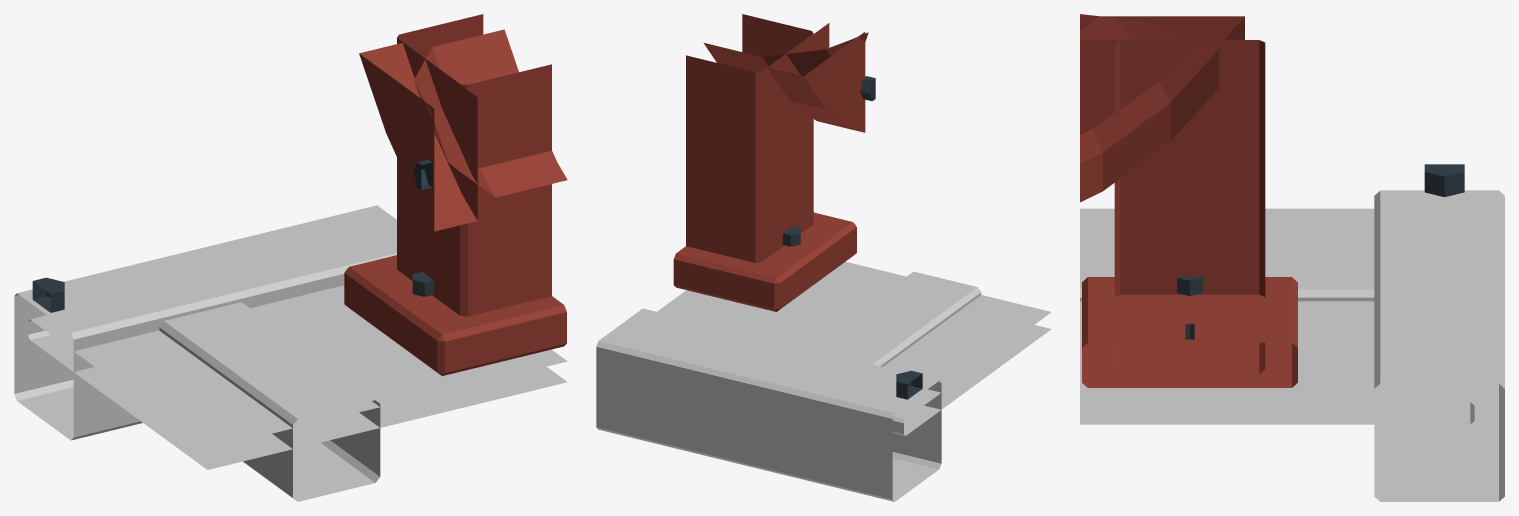
The model's file is cell_1.obj.
3 views of the same model, side by side, from view 1: azimuth 30°, elevation 25°; view 2: azimuth 150°, elevation 25°; view 3: azimuth 270°, elevation 25° (orthographic). The views are drawn at different scales.
Bounding box in the file's own units: 1 × 1 × 0.93.
